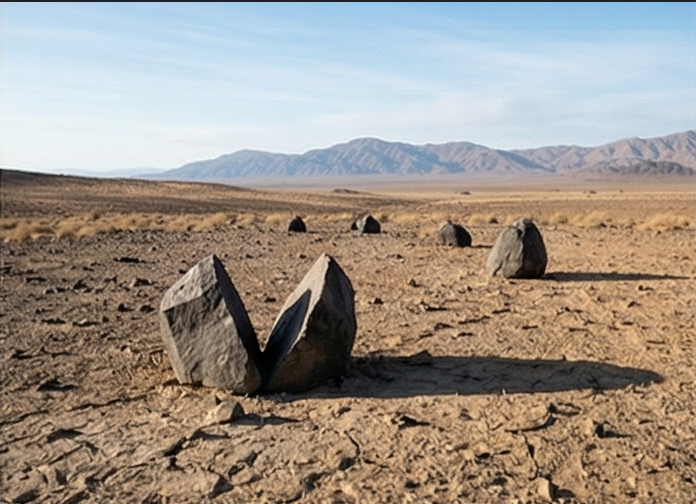rocks: (160, 254, 356, 393), (483, 215, 547, 278), (486, 219, 546, 277), (204, 396, 240, 422), (437, 221, 470, 247), (438, 221, 471, 245), (353, 212, 379, 233), (352, 215, 380, 233), (287, 214, 306, 231), (289, 216, 305, 231)
